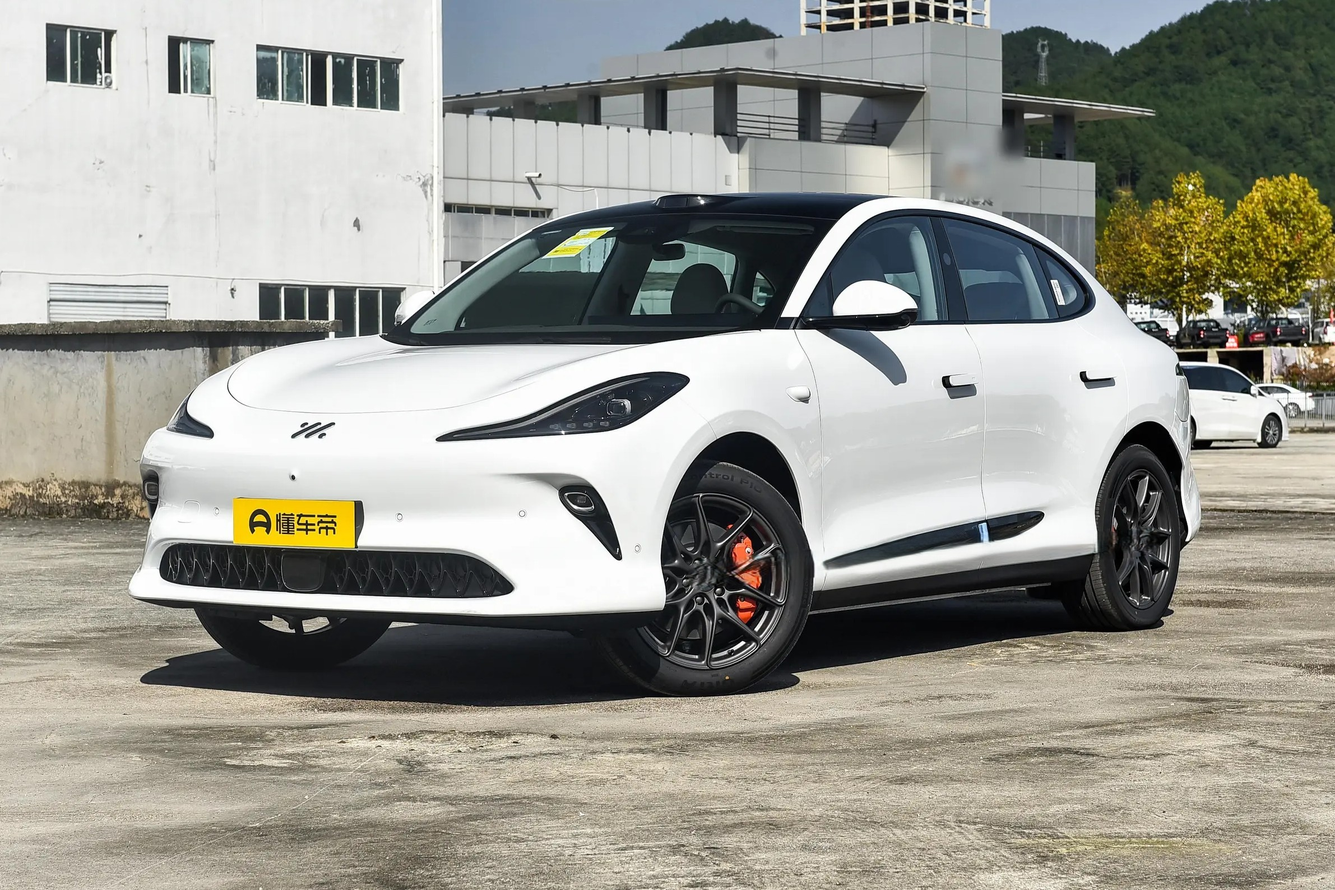IM: (291, 422, 335, 439)
